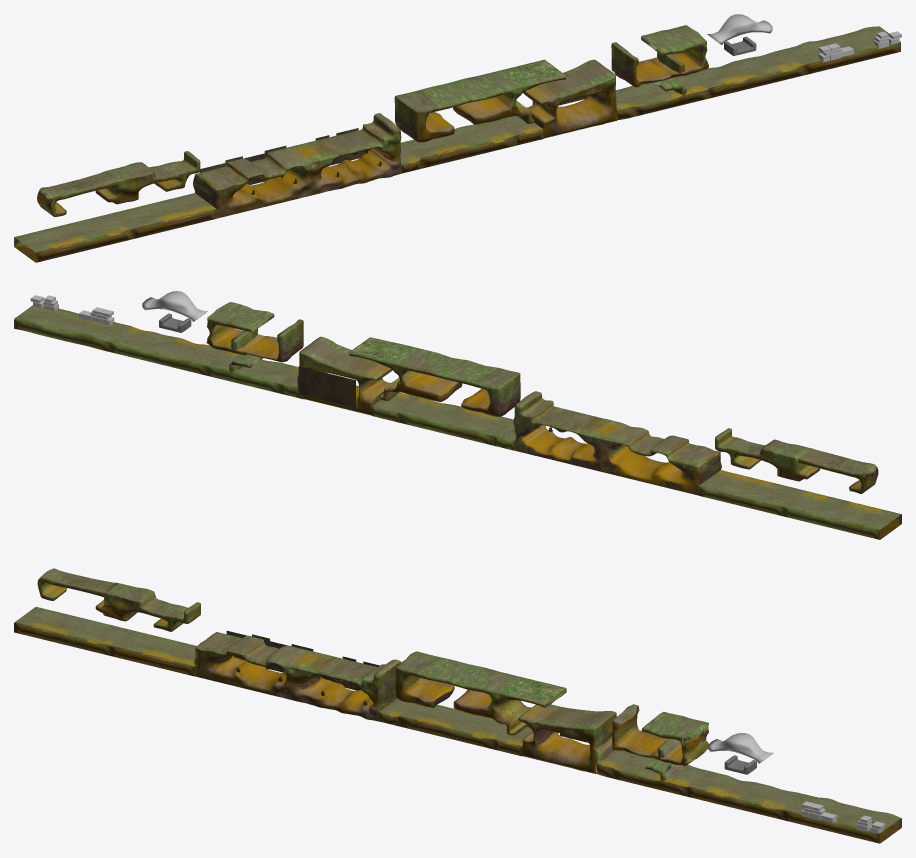
The model's file is StageForest.fbx.
3 views of the same model, one above another, from view 1: azimuth 30°, elevation 25°; view 2: azimuth 150°, elevation 25°; view 3: azimuth 330°, elevation 25° (orthographic).
Visible parts, largest first — view 1: Cave.002, Cube, Cube.001, Plane, Wall; view 2: Cave.002, Cube, Plane, Cube.001, Wall; view 3: Cave.002, Cube, Cube.001, Wall, Plane.
Boxes of the visible parts, <box> form: Cave.002: <box>37,25,708,218</box>; Cube: <box>14,26,900,262</box>; Cube.001: <box>707,14,772,44</box>; Plane: <box>199,96,587,184</box>; Wall: <box>818,31,901,62</box>; Cave.002: <box>206,302,878,495</box>; Cube: <box>14,305,901,539</box>; Plane: <box>298,366,355,408</box>; Cube.001: <box>142,291,207,321</box>; Wall: <box>30,295,114,325</box>; Cave.002: <box>37,568,708,781</box>; Cube: <box>14,607,901,843</box>; Cube.001: <box>708,733,773,763</box>; Wall: <box>801,801,885,833</box>; Plane: <box>226,630,588,742</box>.
Size of the model in its own units: 22525 by 1549 by 1176.
